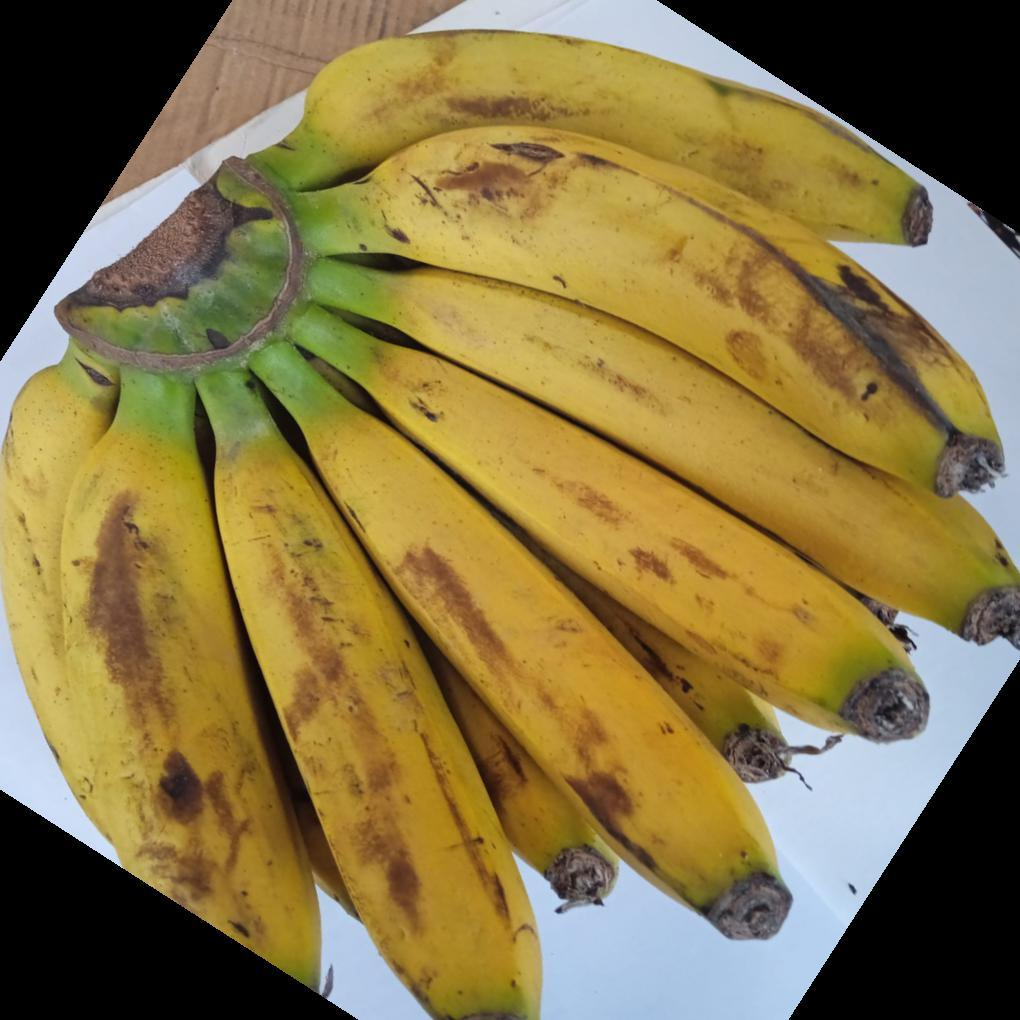Banana Ripe: (10, 22, 1020, 1020), (285, 196, 1020, 850), (175, 311, 842, 1020), (340, 114, 1020, 521), (18, 319, 357, 997)
